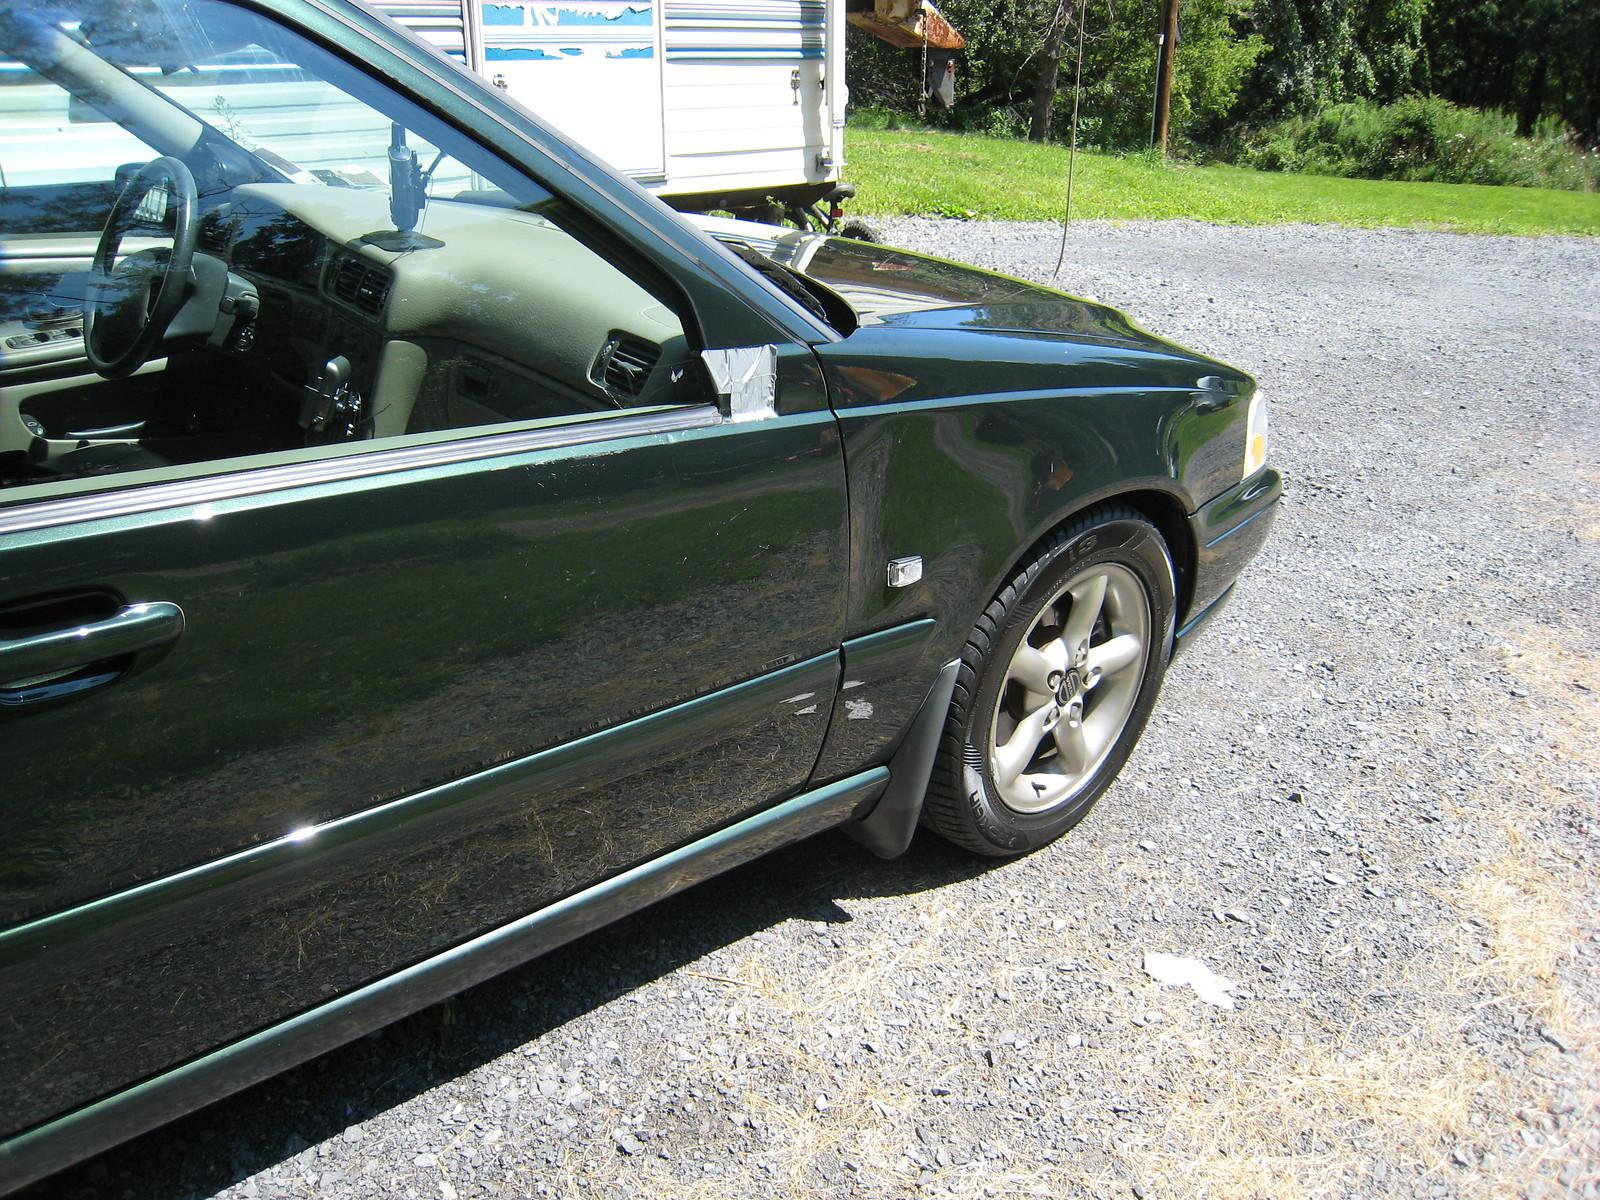fender-dent: (855, 403, 1146, 613)
